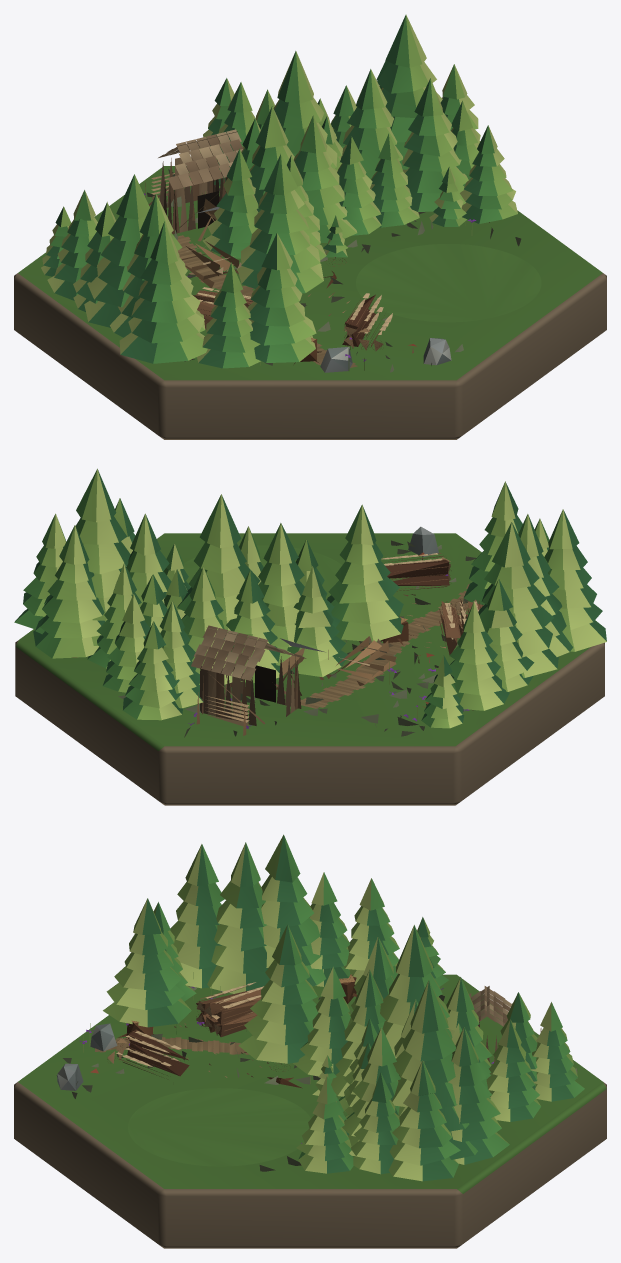
The model's file is tile_timber_lod0.glb.
3 views of the same model, one above another, from view 1: azimuth 30°, elevation 25°; view 2: azimuth 150°, elevation 25°; view 3: azimuth 270°, elevation 25° (orthographic).
Visible parts, largest first — view 1: tile_timber_LOD0; view 2: tile_timber_LOD0; view 3: tile_timber_LOD0.
Boxes of the visible parts, left/top/right/bottom form: tile_timber_LOD0: left=14, top=14, right=606, bottom=439; tile_timber_LOD0: left=14, top=468, right=606, bottom=805; tile_timber_LOD0: left=14, top=834, right=606, bottom=1248.
Bounding box in the file's own units: 1.84 × 0.8753 × 1.98.
